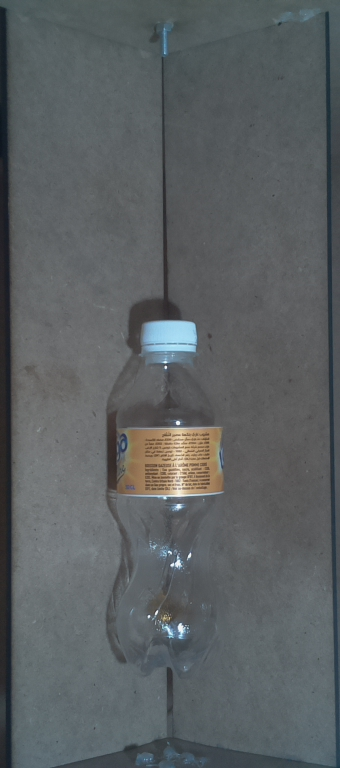Bouteille_0.3L: (100, 311, 238, 685)
